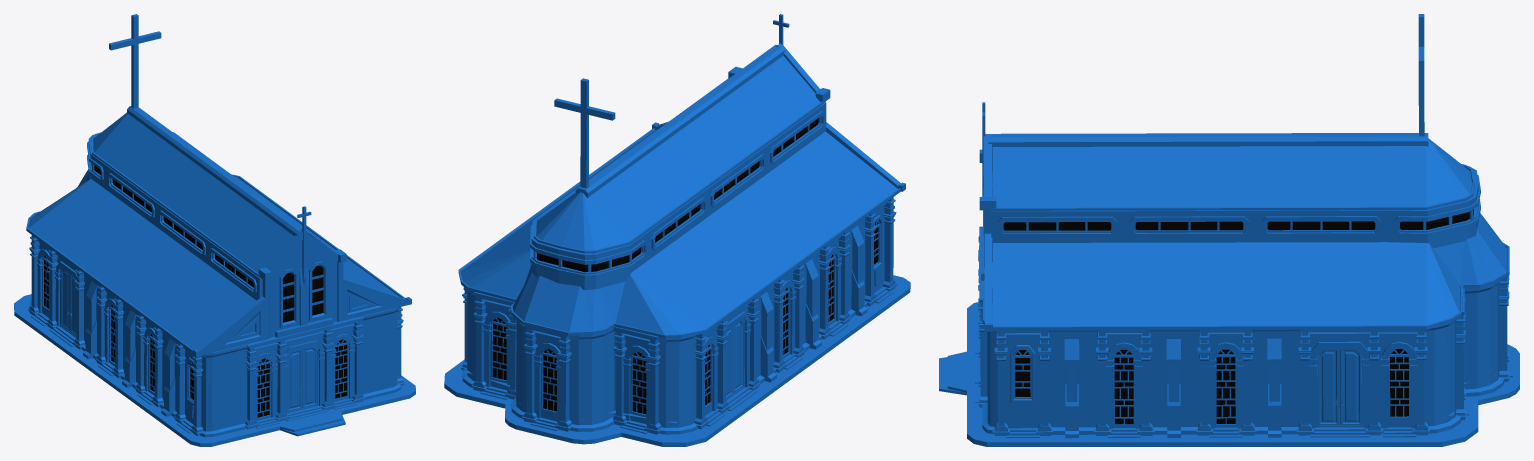
Rendered from space_church.fbx.
The picture shows the model from 3 angles, left to right: view 1: azimuth 30°, elevation 25°; view 2: azimuth 150°, elevation 25°; view 3: azimuth 270°, elevation 25°; orthographic projection. The views are drawn at different scales.
Parts seen in each view (by area): view 1: Cube_12, Cylinder_6_3, Symmetry_2_3, Cylinder_6_2, Symmetry_2_2; view 2: Cube_12, Symmetry_2_2, Cylinder_6_2; view 3: Cube_12, Symmetry_2, Cylinder_6.
Part boxes in pixels (<box>): Cube_12: <box>14,14,415,446</box>; Cylinder_6_3: <box>302,346,317,408</box>; Symmetry_2_3: <box>287,349,302,411</box>; Cylinder_6_2: <box>61,268,70,331</box>; Symmetry_2_2: <box>69,273,76,336</box>; Cube_12: <box>444,14,910,446</box>; Symmetry_2_2: <box>733,320,743,393</box>; Cylinder_6_2: <box>726,326,733,398</box>; Cube_12: <box>939,14,1519,446</box>; Symmetry_2: <box>1317,349,1339,425</box>; Cylinder_6: <box>1339,349,1361,425</box>.
Bounding box in the file's own units: 1261 × 1491 × 2179.
